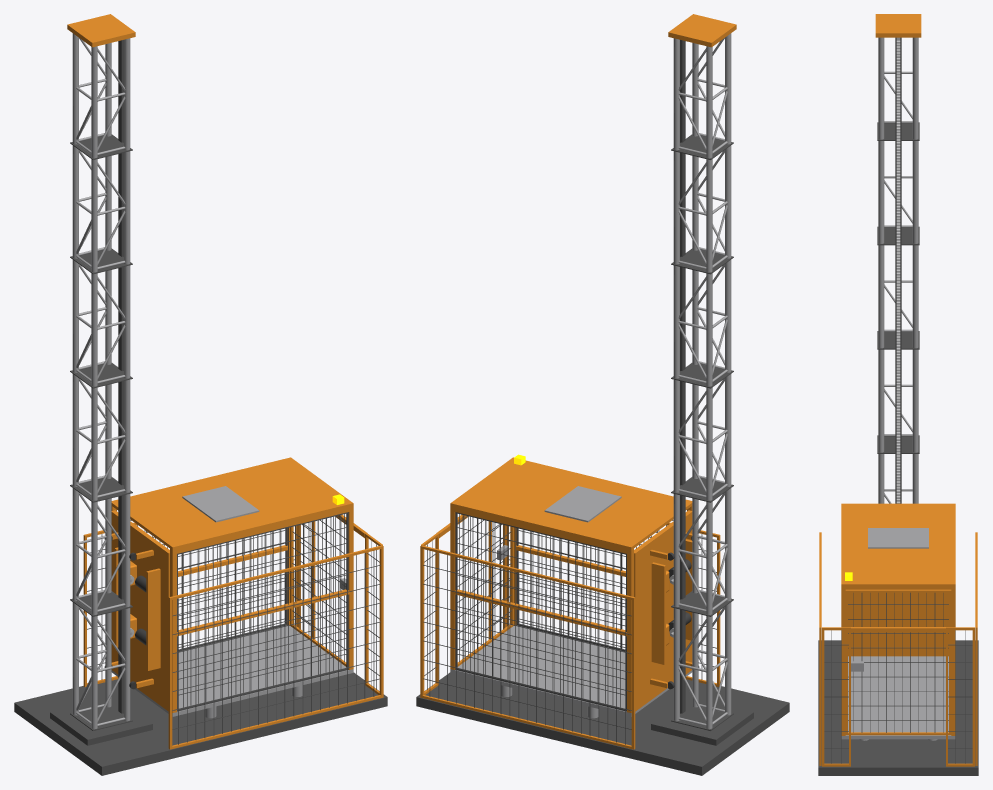
File: material_hoist.glb
3 views of the same model, side by side, from view 1: azimuth 30°, elevation 25°; view 2: azimuth 150°, elevation 25°; view 3: azimuth 270°, elevation 25° (orthographic). The views are drawn at different scales.
Visible parts, largest first — view 1: cage_lift, mast, base_frame, base_enclosure; view 2: cage_lift, mast, base_frame, base_enclosure; view 3: cage_lift, mast, base_frame, base_enclosure.
Part boxes in pixels (box(x1,y1,x2,y2)): cage_lift: box(104, 457, 353, 716); mast: box(67, 14, 135, 730); base_frame: box(14, 672, 387, 775); base_enclosure: box(83, 514, 383, 749); cage_lift: box(450, 454, 699, 716); mast: box(668, 14, 736, 730); base_frame: box(416, 672, 789, 775); base_enclosure: box(420, 514, 720, 749); cage_lift: box(841, 503, 955, 739); mast: box(875, 14, 921, 503); base_frame: box(818, 640, 978, 775); base_enclosure: box(819, 532, 977, 766).
Bounding box in the file's own units: 3.95 × 9.31 × 2.1.
6 materials, 6 textured.
